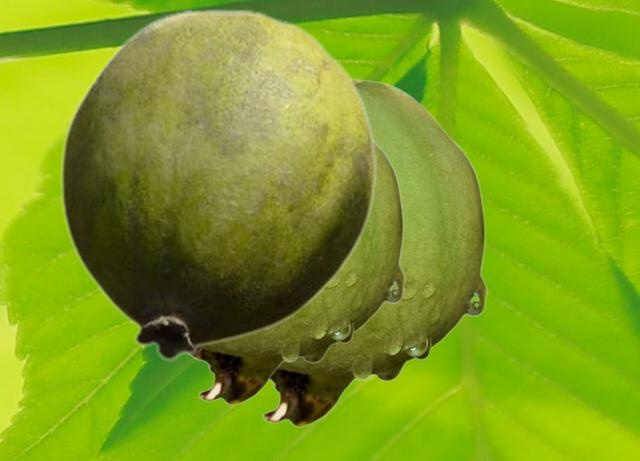guava: (59, 8, 377, 360), (260, 78, 486, 426), (191, 142, 404, 404)
